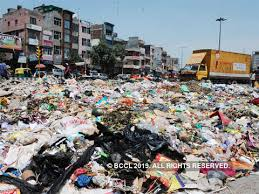garbage: (2, 80, 258, 194)
